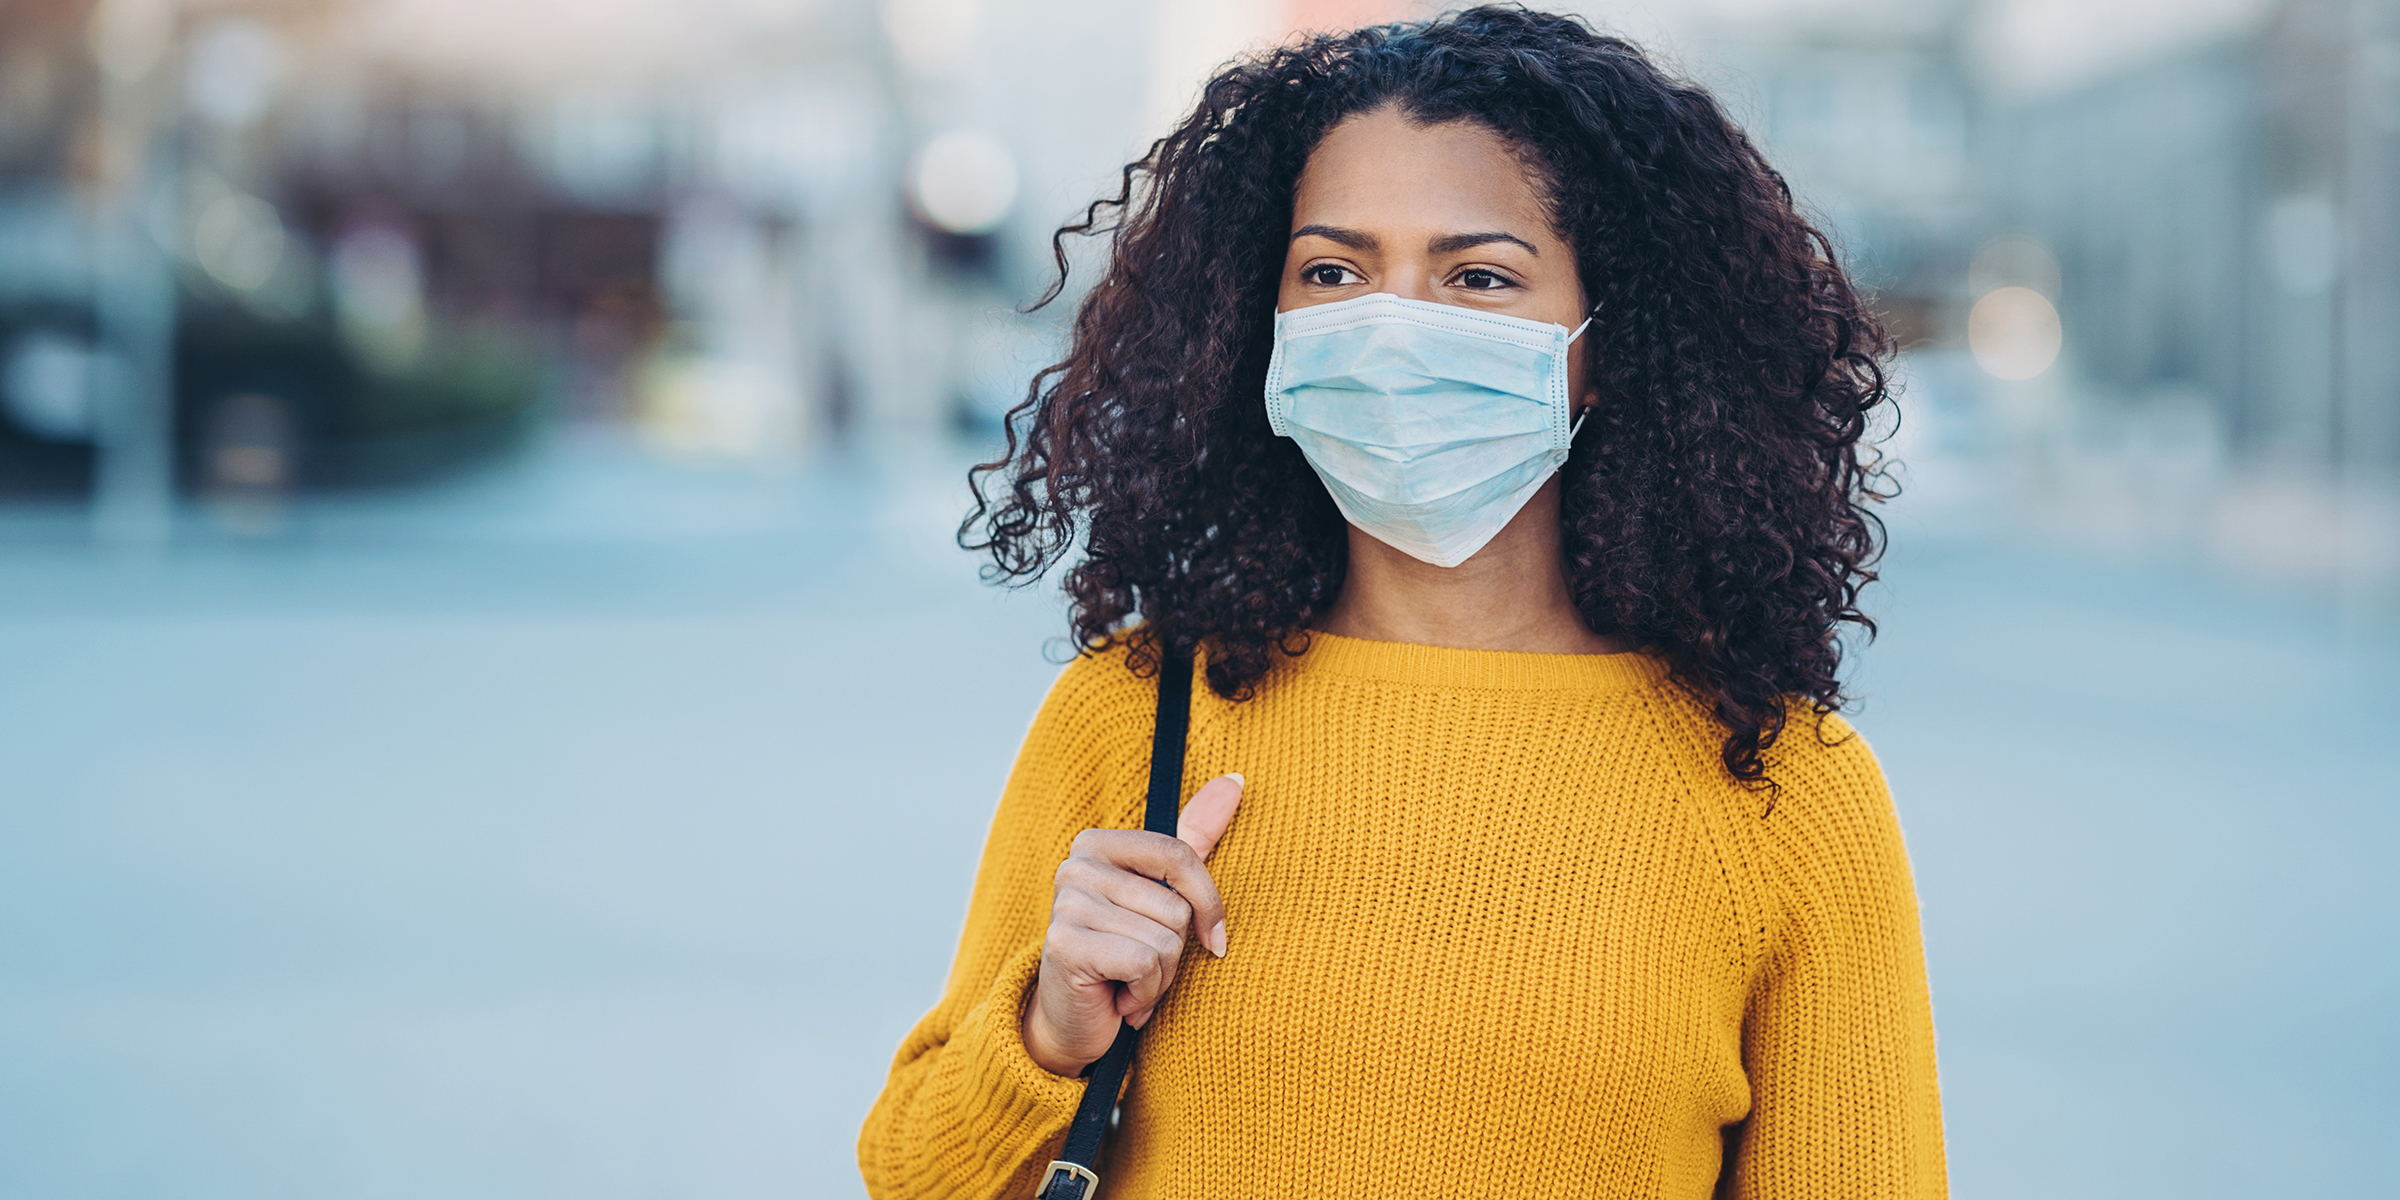with_mask: (1129, 23, 1748, 648)
